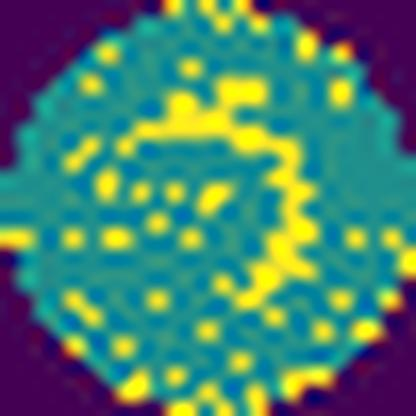Donut: (84, 58, 339, 335)
